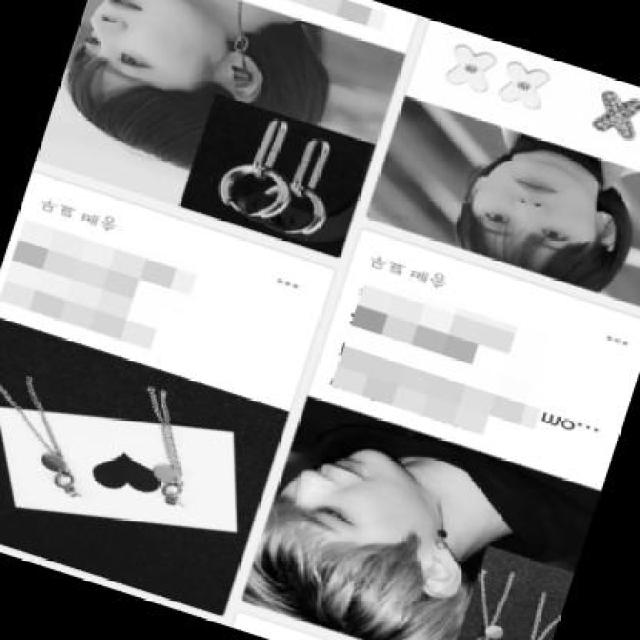earphone: (216, 90, 354, 271), (208, 45, 280, 106)
